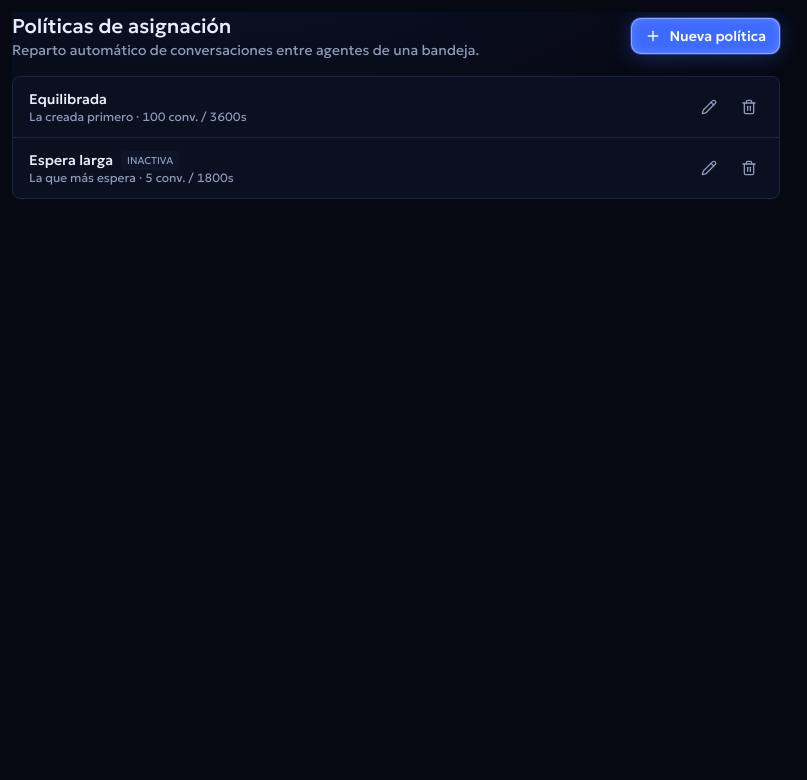
AssignmentPoliciesView › blocks submit when the fair-distribution limit is not positive
The image size is (807, 780).
expect the text "Equilibrada" is shown: met, box [29, 89, 107, 109]
Click the button "Nueva política".
click(706, 36)  # box [631, 18, 780, 54]
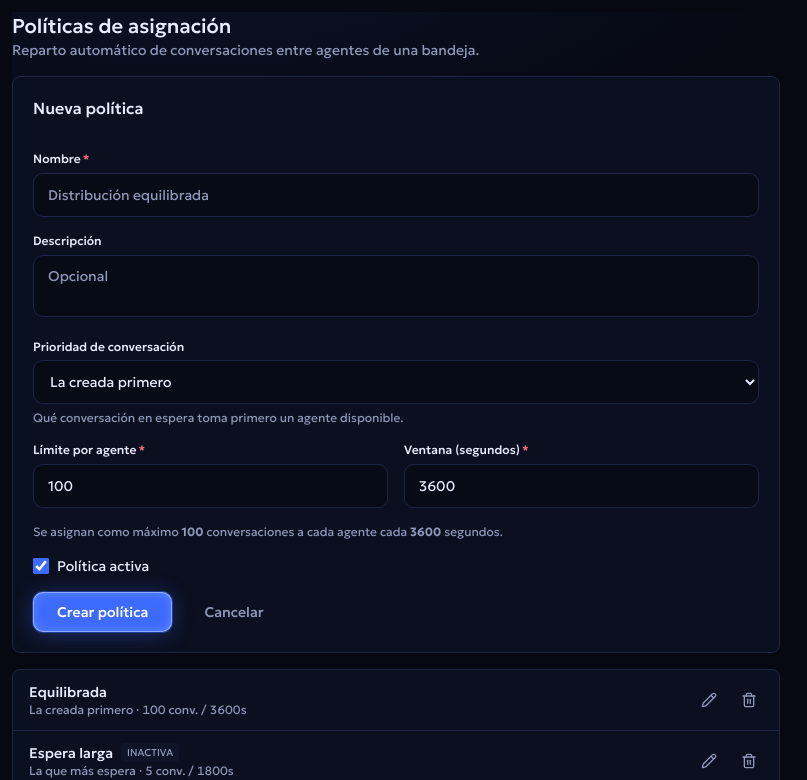
Type "Bad" into the field labelled "Nombre*".
click(396, 195); type("Bad")  # box [33, 173, 759, 217]
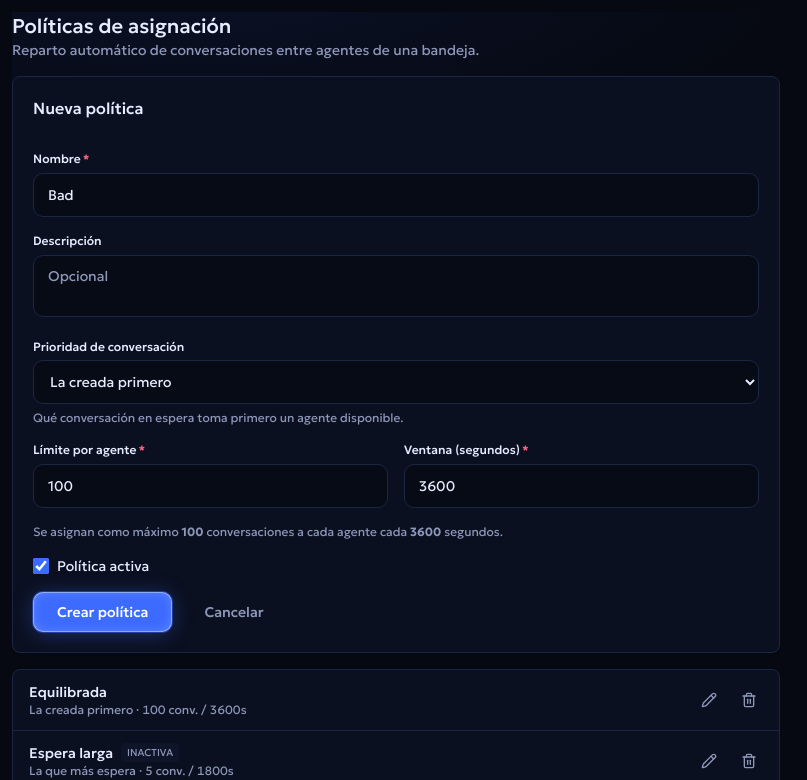
Replace the text in the number field labelled "Límite por agente*" with "0" at (210, 486), box [33, 464, 388, 508]
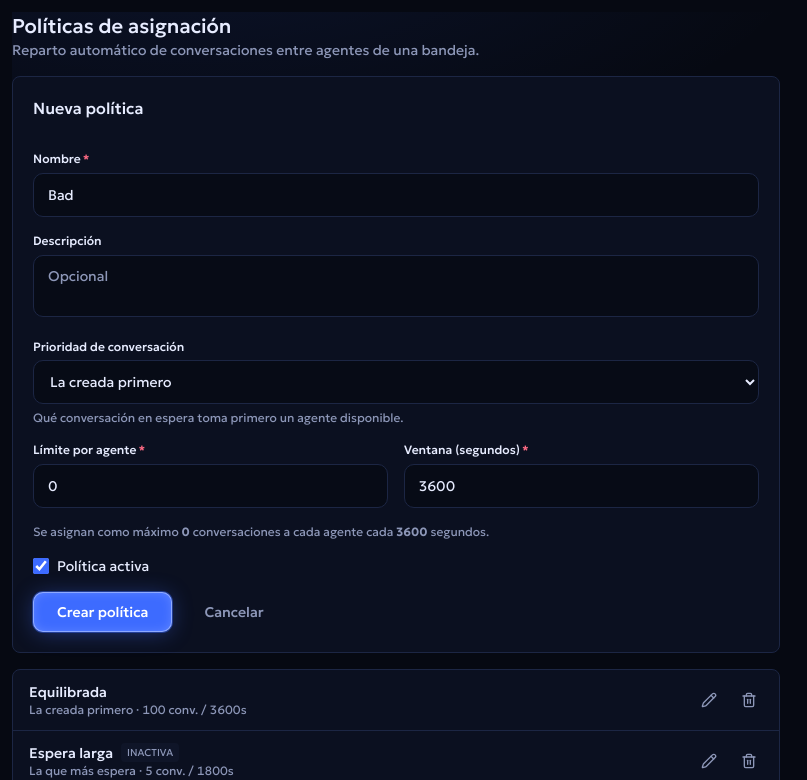
Click the button "Crear política".
click(103, 612)  # box [33, 592, 172, 632]
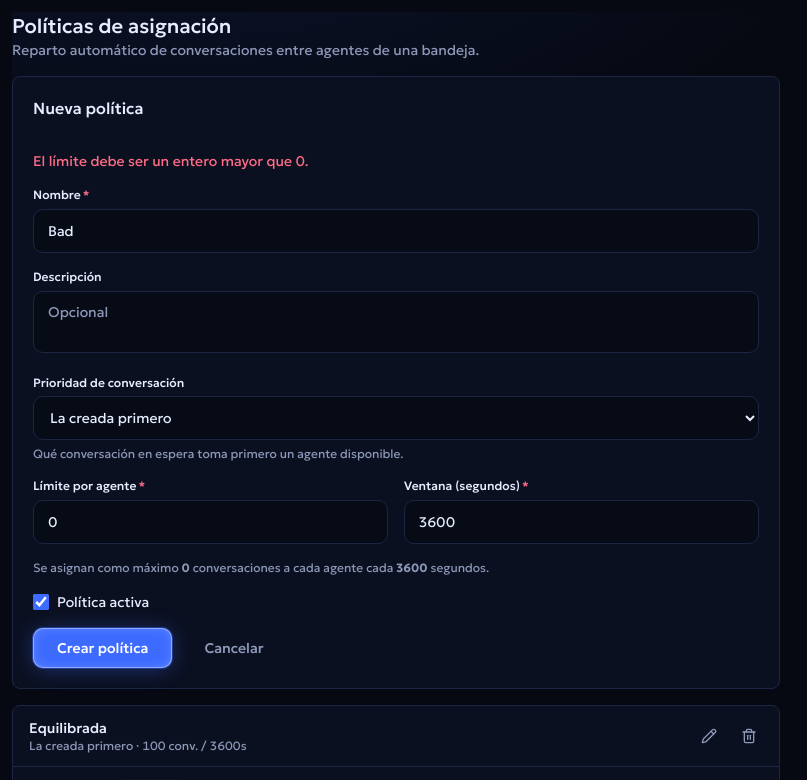
expect the message shows "mayor que 0": met, box [33, 152, 309, 170]
